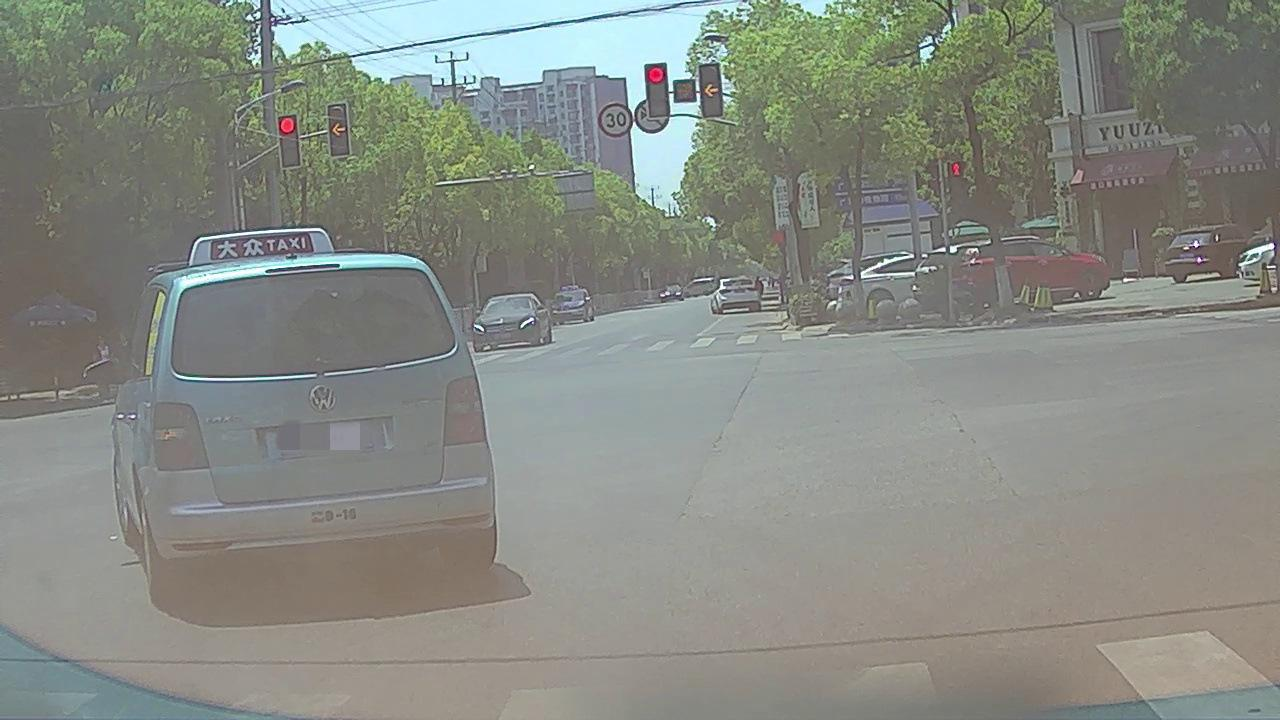traffic_light: (645, 64, 668, 119), (698, 62, 721, 116), (279, 116, 299, 167), (329, 105, 348, 156)
